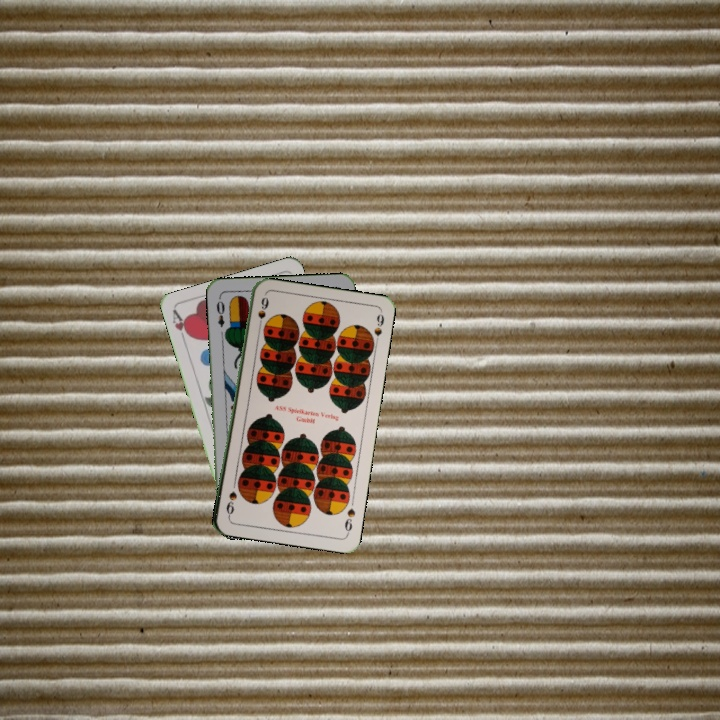EO: (212, 293, 227, 329)
HA: (168, 307, 193, 346)
S9: (254, 293, 270, 333), (340, 504, 358, 537)
